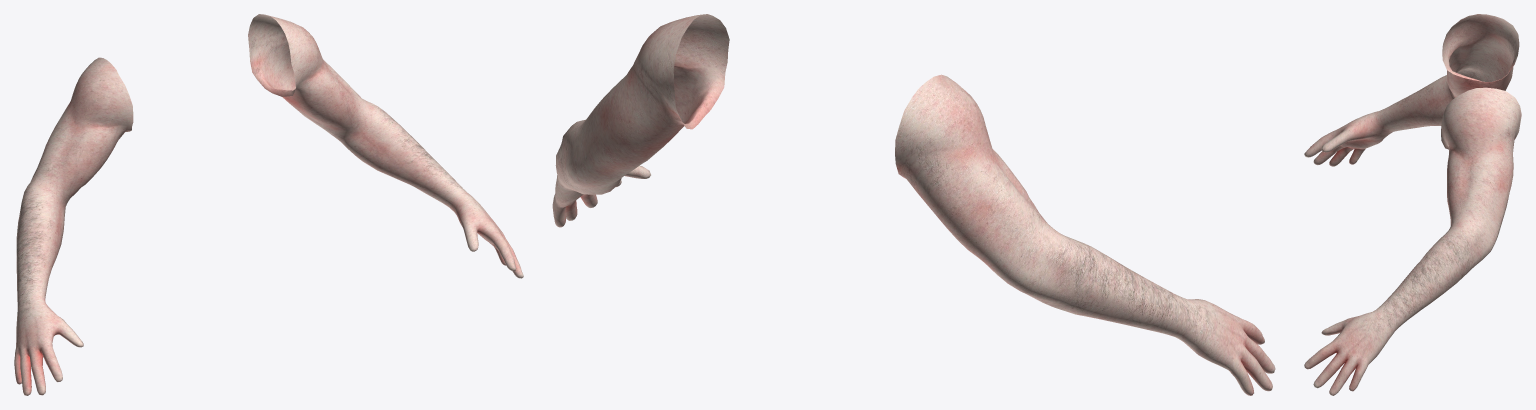
The model's file is arms.glb.
The picture shows the model from 3 angles, left to right: view 1: azimuth 30°, elevation 25°; view 2: azimuth 150°, elevation 25°; view 3: azimuth 270°, elevation 25°; orthographic projection. The views are drawn at different scales.
Parts seen in each view (by area): view 1: arms; view 2: arms; view 3: arms.
Boxes of the visible parts, x1,y1,x2,y2 form: arms: (14, 14, 523, 395); arms: (552, 14, 1275, 395); arms: (1304, 14, 1521, 395).
Bounding box in the file's own units: 1.26 × 0.5818 × 0.4991.
1 material, 1 textured.
